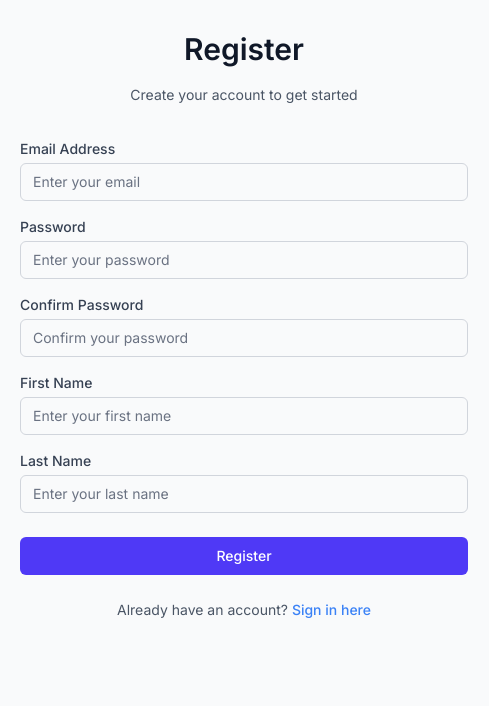
Scenario: RegisterPage › Form Validation › should validate password strength
In the password field labelled "Password": (244, 260) x1=20 y1=241 x2=468 y2=279, type "123"
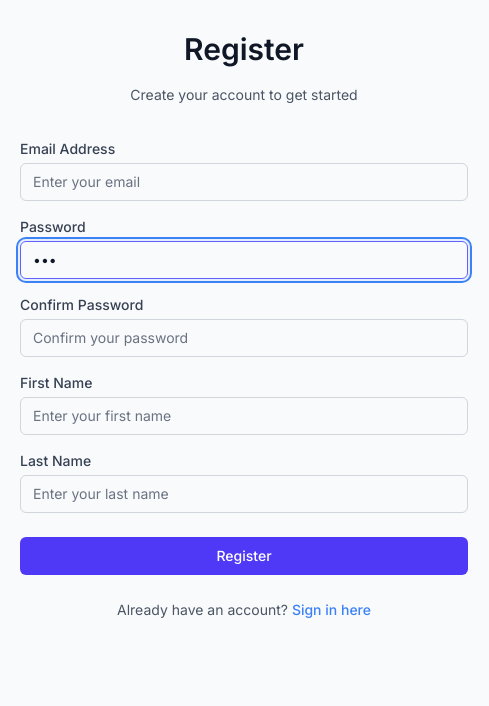
Click the button "Register": (244, 556) x1=20 y1=537 x2=468 y2=575
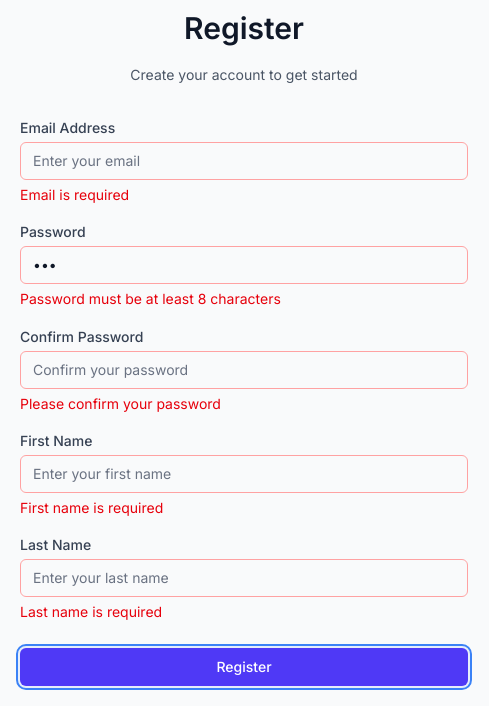
Expected: the text "Password must be at least 8 characters" is shown, x1=20 y1=290 x2=281 y2=307
